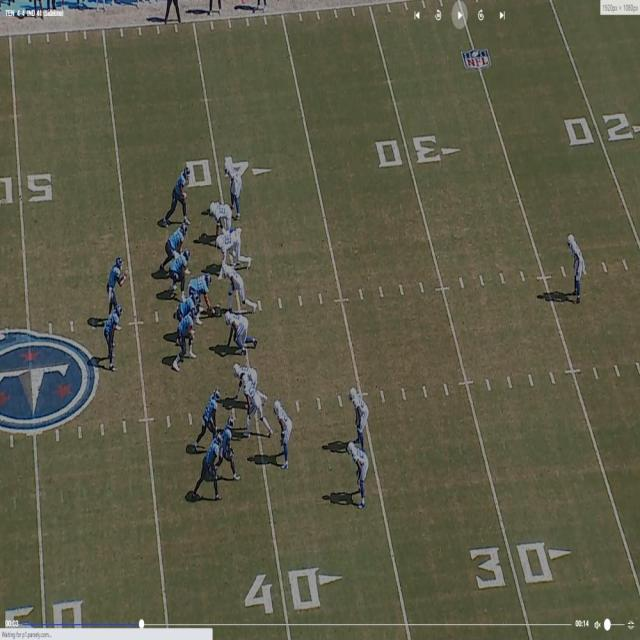center: (193, 270, 213, 299)
db: (348, 443, 368, 507), (275, 396, 291, 467), (569, 231, 582, 301), (226, 158, 242, 200), (350, 387, 366, 426)
lb: (222, 262, 250, 312), (246, 376, 269, 436)
qb: (108, 252, 122, 318)
skill: (206, 433, 223, 505), (203, 386, 223, 441), (221, 414, 239, 475), (105, 301, 119, 372), (174, 167, 190, 210)
